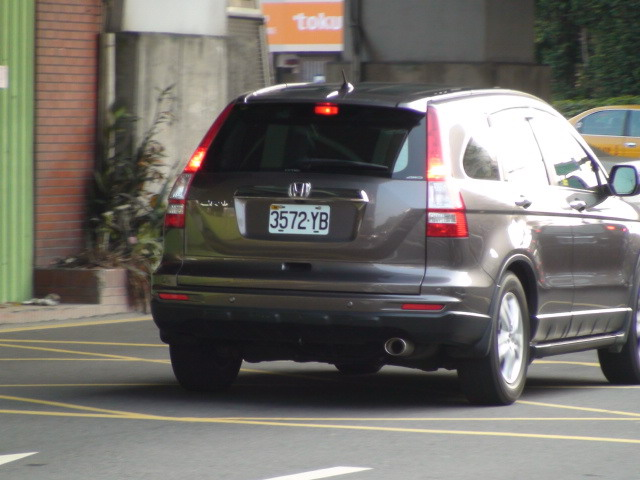plate: (268, 203, 330, 237)
